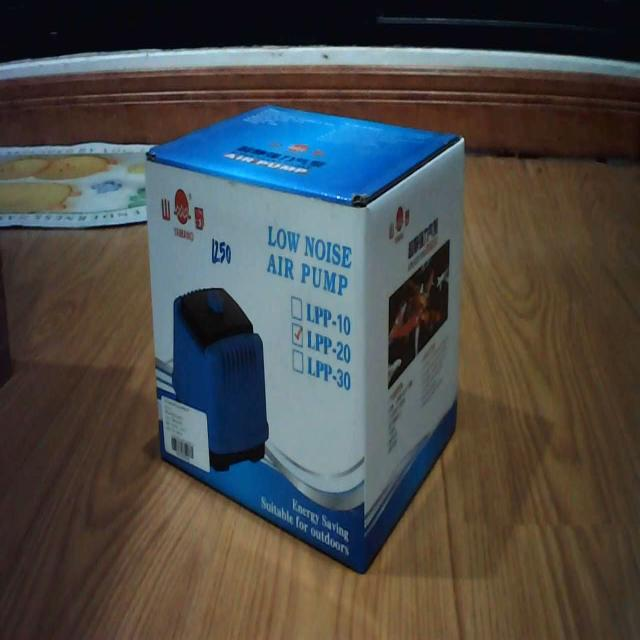YAMANO_LPP_20: (141, 80, 475, 588)
